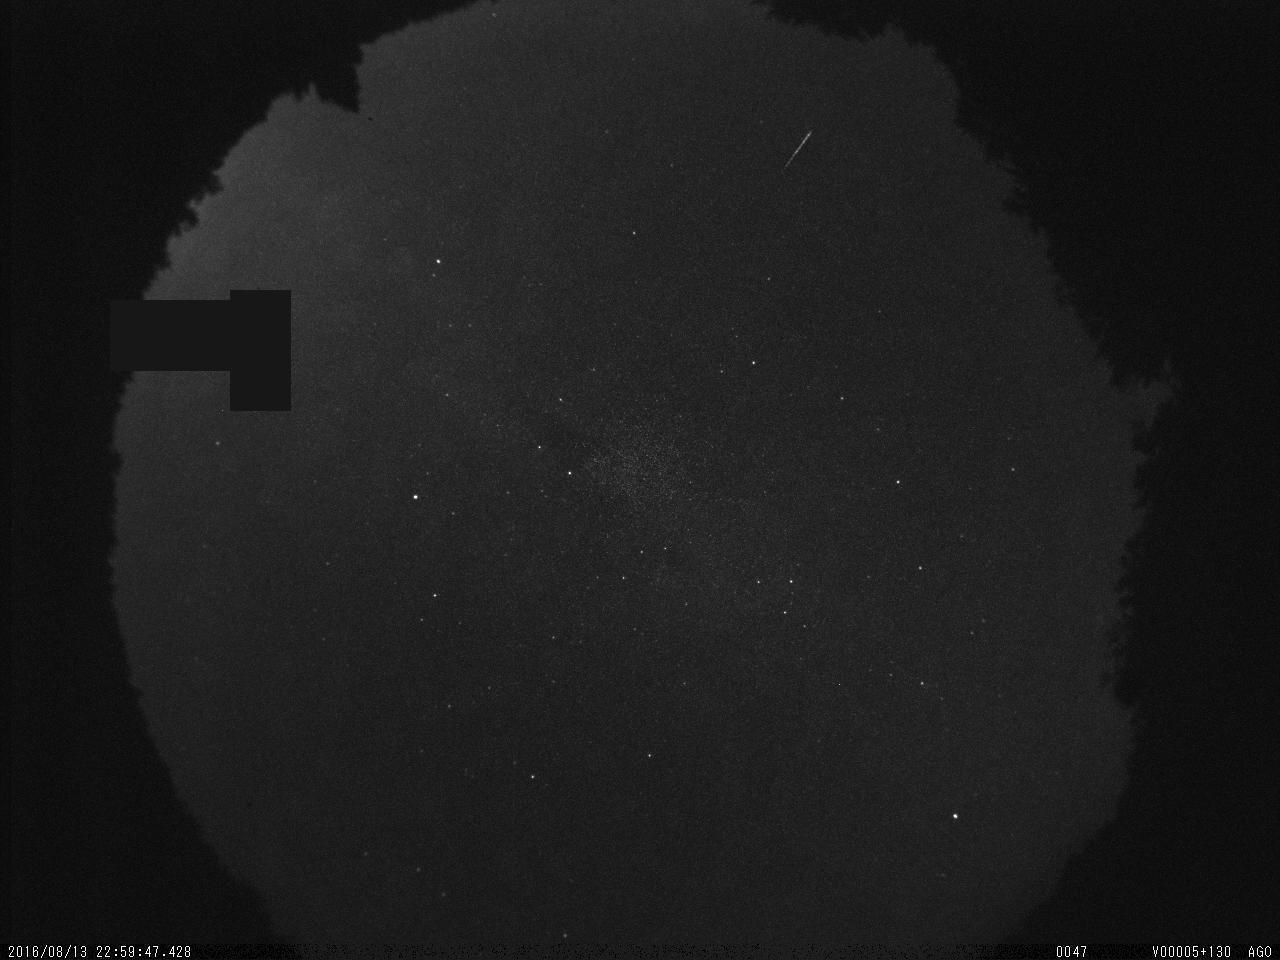Meteor: (777, 123, 817, 178)
